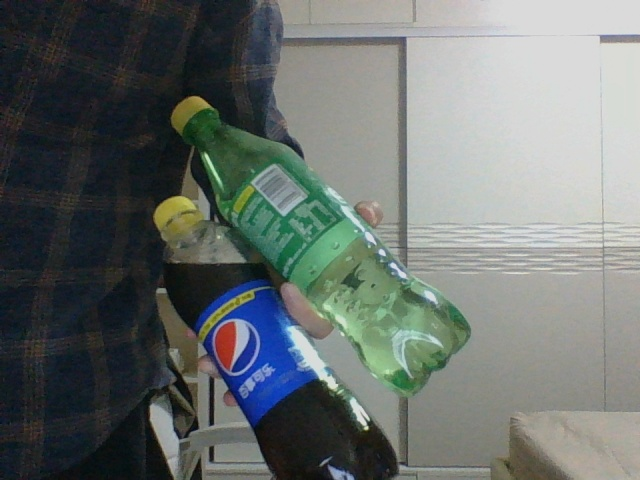Cola: (156, 199, 400, 479)
Sprite: (170, 98, 471, 399)
